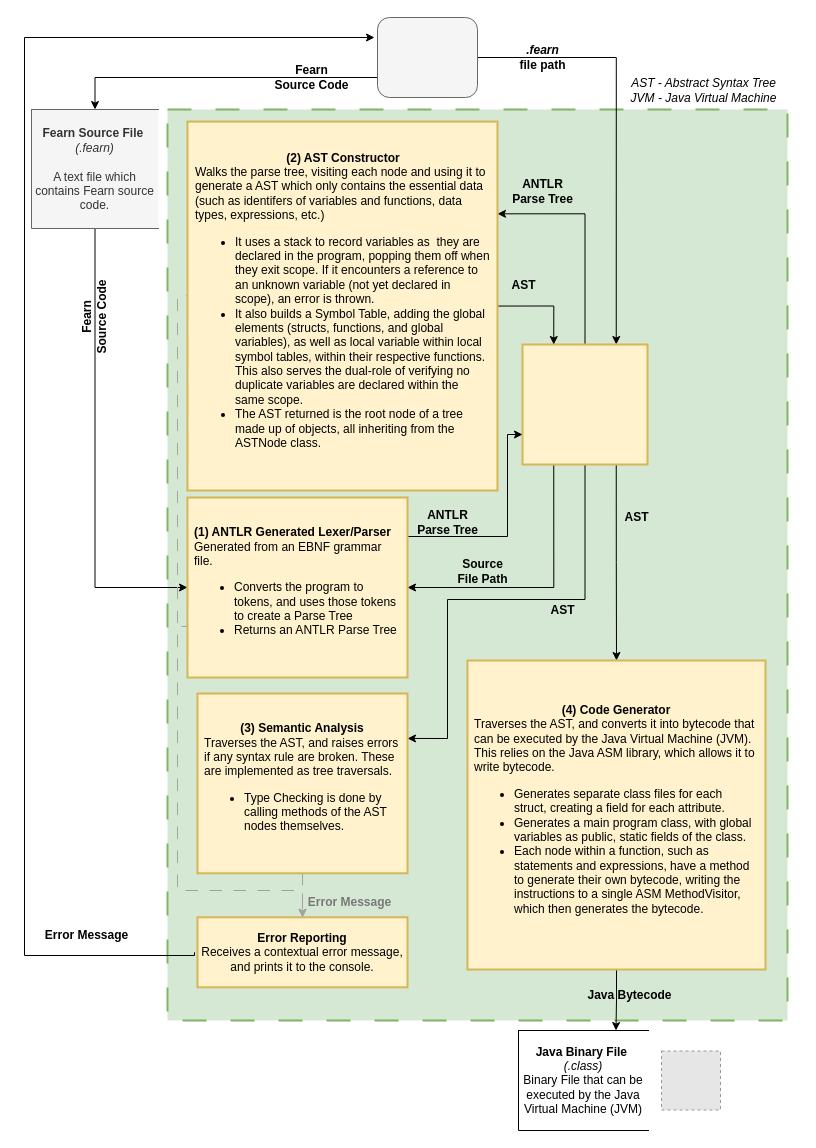
The diagram is 816 pixels wide and 1148 high, and some of its shapes have lost their labels. Grey dashed boxes stand in for pictures. The centre of each missing label's shape, as x and y in pixels:
"Developer" goes at point (427, 57).
"Main Control Process Main process that calls other modules" goes at point (584, 404).
